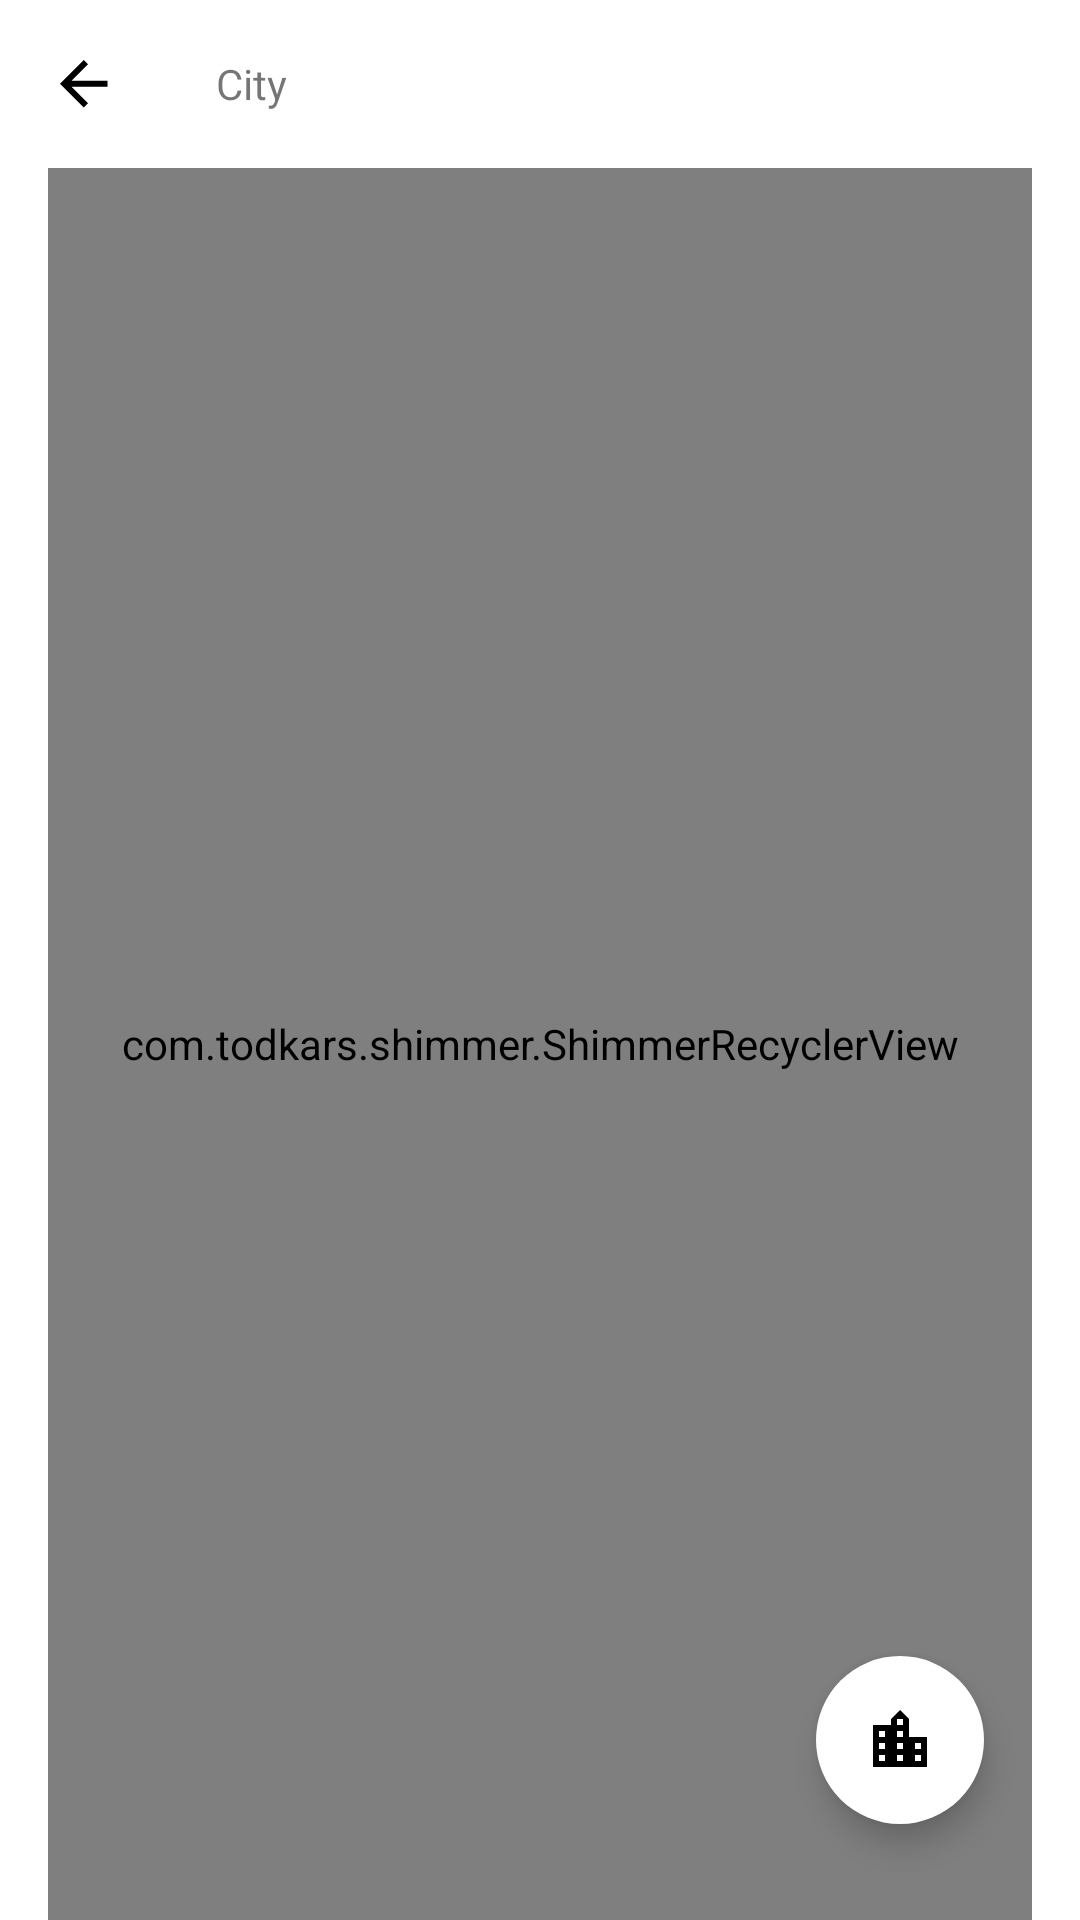

Where icons sit on this 1080*1920 app screen, as (x1, y1, x2, y2):
arrow left: (60, 60, 108, 108)
